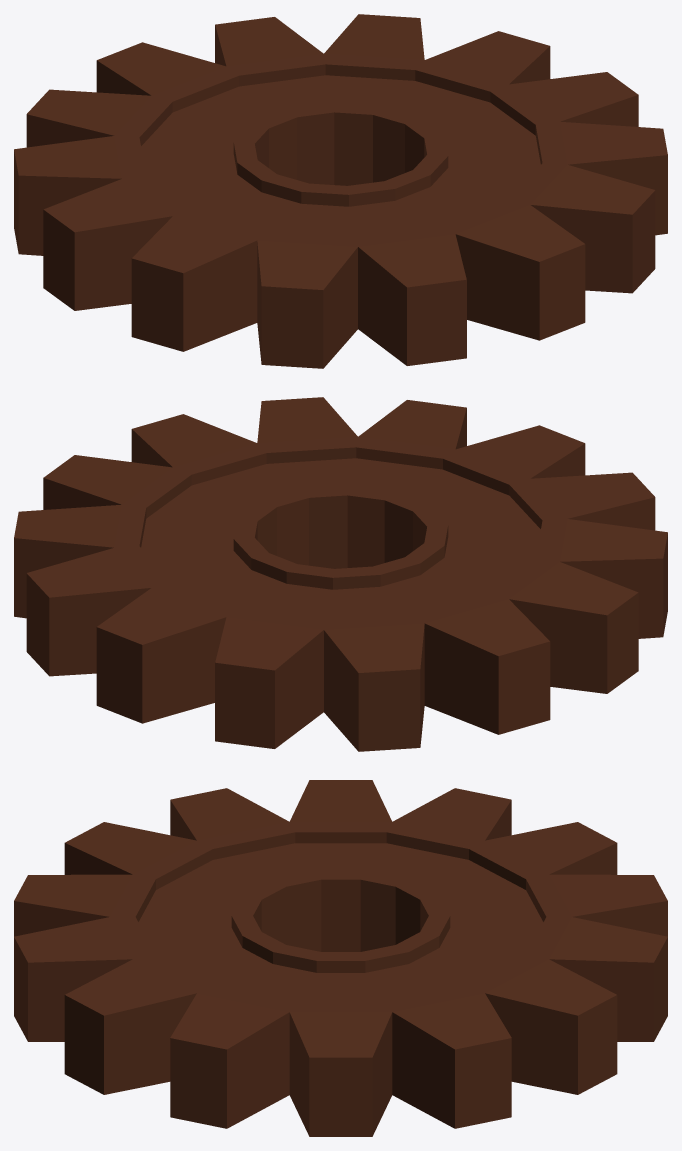
The model's file is Gear.glb.
The picture shows the model from 3 angles, top to bottom: view 1: azimuth 30°, elevation 25°; view 2: azimuth 150°, elevation 25°; view 3: azimuth 270°, elevation 25°; orthographic projection.
Visible parts, largest first — view 1: Gear; view 2: Gear; view 3: Gear.
Part boxes in pixels (left/top/right/bottom): Gear: left=14, top=14, right=667, bottom=368; Gear: left=14, top=397, right=667, bottom=751; Gear: left=14, top=780, right=667, bottom=1136.
Bounding box in the file's own units: 2.84 × 0.4066 × 2.83.
